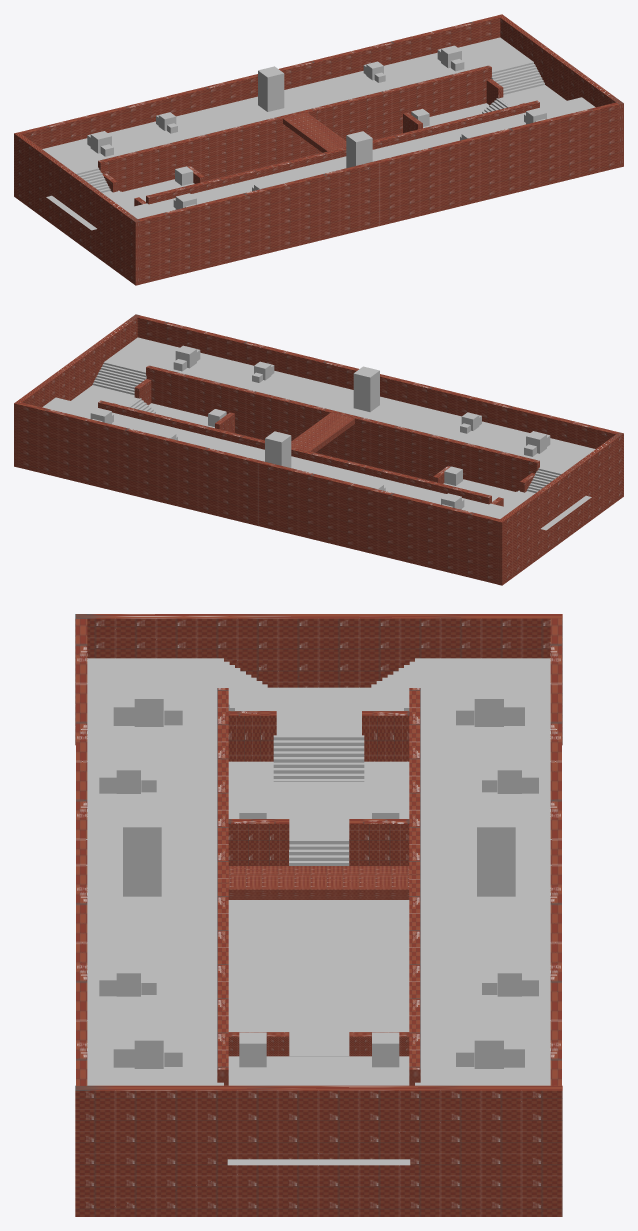
The model's file is unggввtiвввtled.fbx.
3 renders of one model, top to bottom at view 1: azimuth 30°, elevation 25°; view 2: azimuth 150°, elevation 25°; view 3: azimuth 270°, elevation 25°, orthographic. The views are drawn at different scales.
Parts seen in each view (by area): view 1: Плоскость.002; view 2: Плоскость.002; view 3: Плоскость.002.
Part boxes in pixels (box(x1,y1,x2,y2)): Плоскость.002: box(14, 14, 623, 285); Плоскость.002: box(14, 314, 623, 585); Плоскость.002: box(75, 614, 562, 1216).
Size of the model in its own units: 20443 by 3233 by 8617.
